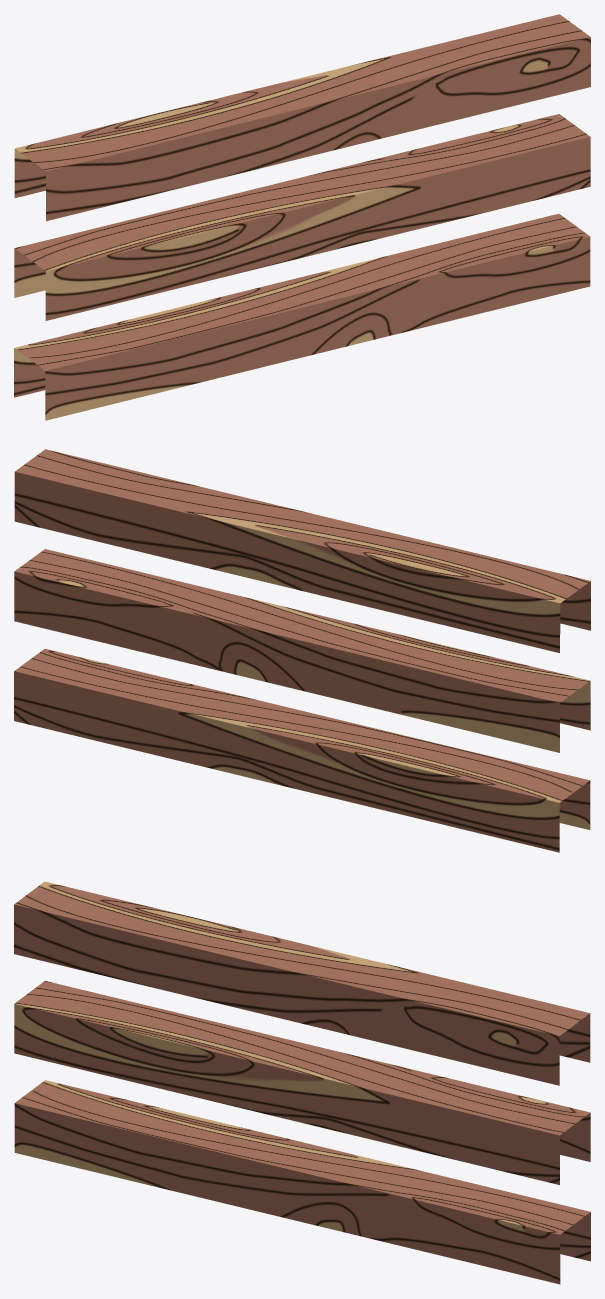
File: midFence.FBX
3 renders of one model, top to bottom at view 1: azimuth 30°, elevation 25°; view 2: azimuth 150°, elevation 25°; view 3: azimuth 330°, elevation 25°, orthographic.
Visible parts, largest first — view 1: midFence; view 2: midFence; view 3: midFence.
Boxes of the visible parts, box(x1,y1,x2,y2) form: midFence: box(14, 14, 590, 420); midFence: box(14, 449, 590, 852); midFence: box(14, 881, 590, 1284).
Size of the model in its own units: 76.98 by 8.1 by 33.66.
1 material, 1 textured.
